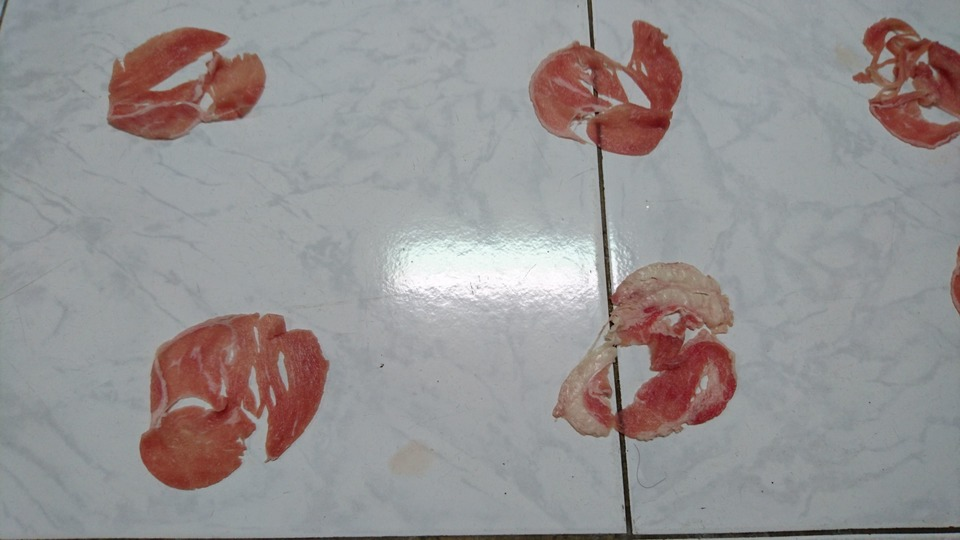restructured meat: (554, 246, 745, 449), (139, 293, 330, 496), (529, 18, 698, 159), (98, 24, 267, 138)
